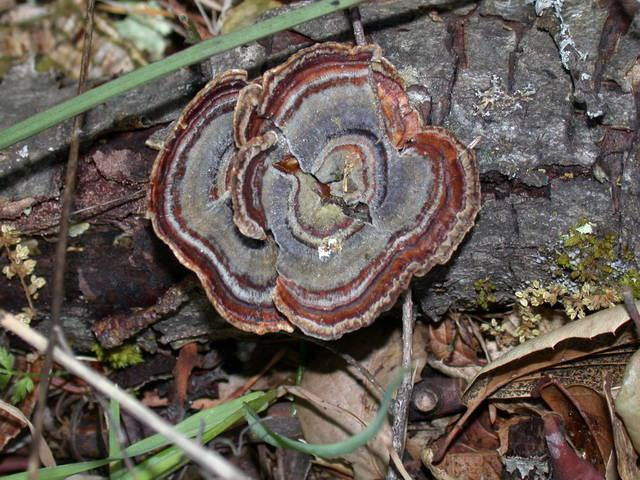Non-edible Mushroom: (143, 39, 483, 342)
